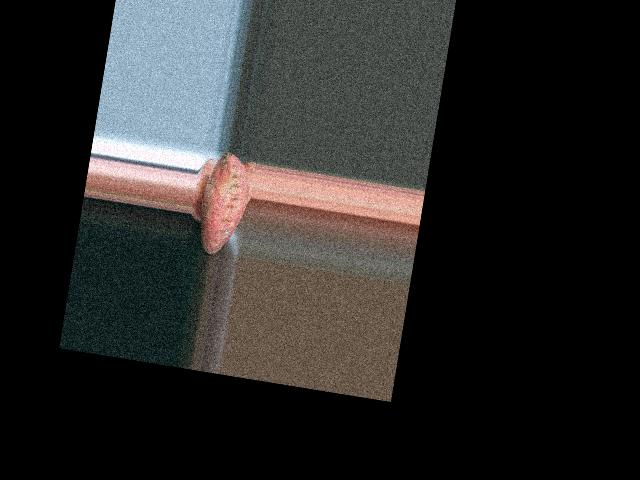sweet_potato: (198, 150, 251, 257)
